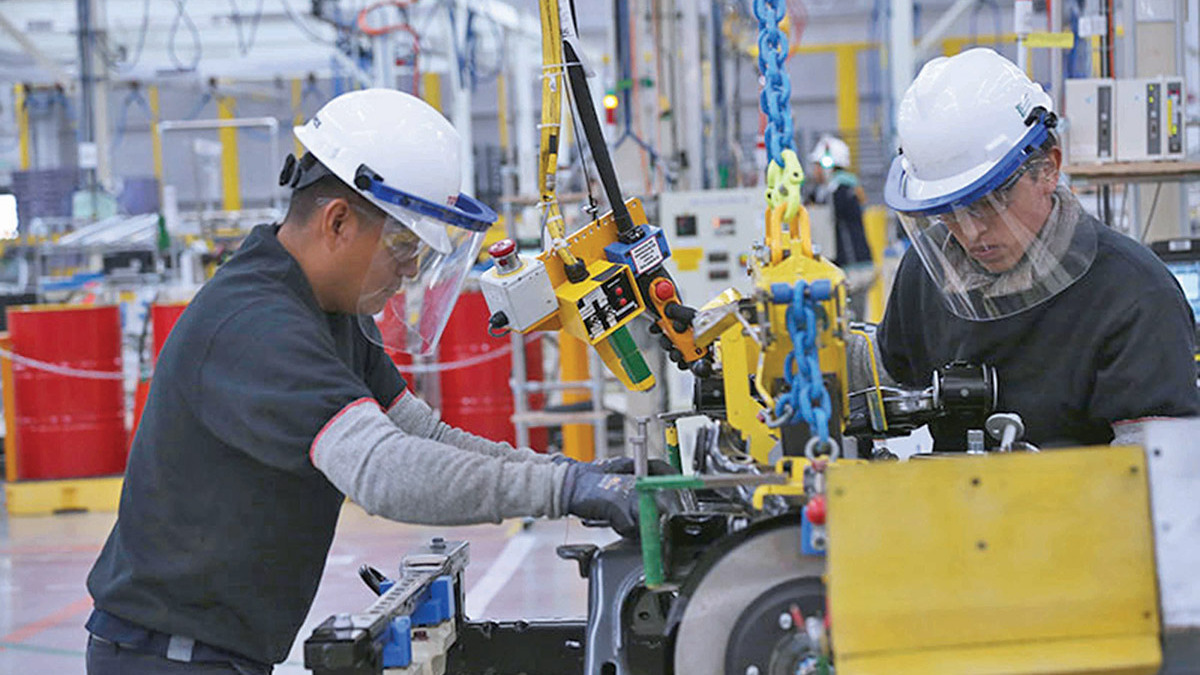Casco de seguridad: (273, 83, 517, 261), (873, 49, 1073, 217)
